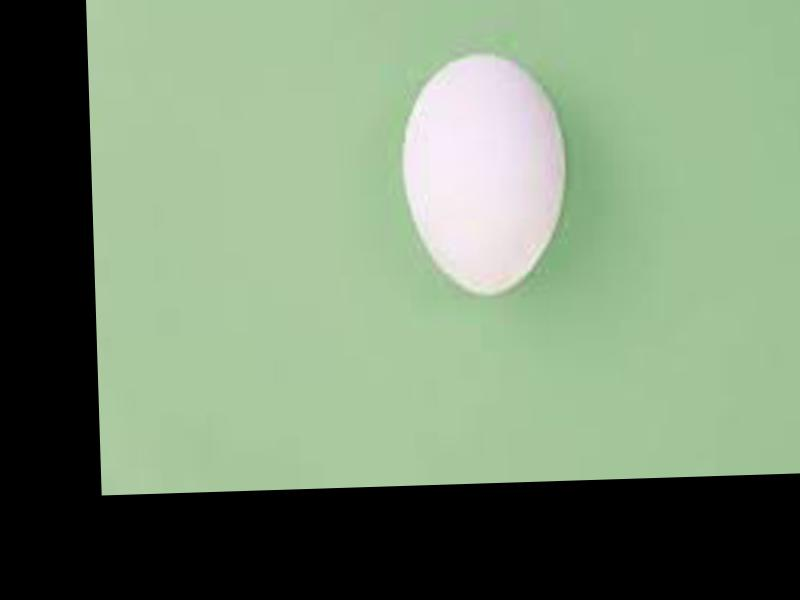Eggs: (399, 48, 571, 297)
